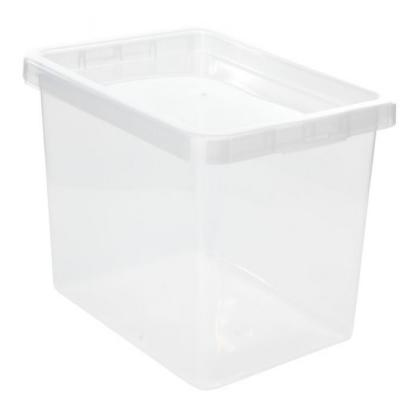plastic_box: (10, 15, 406, 392)
